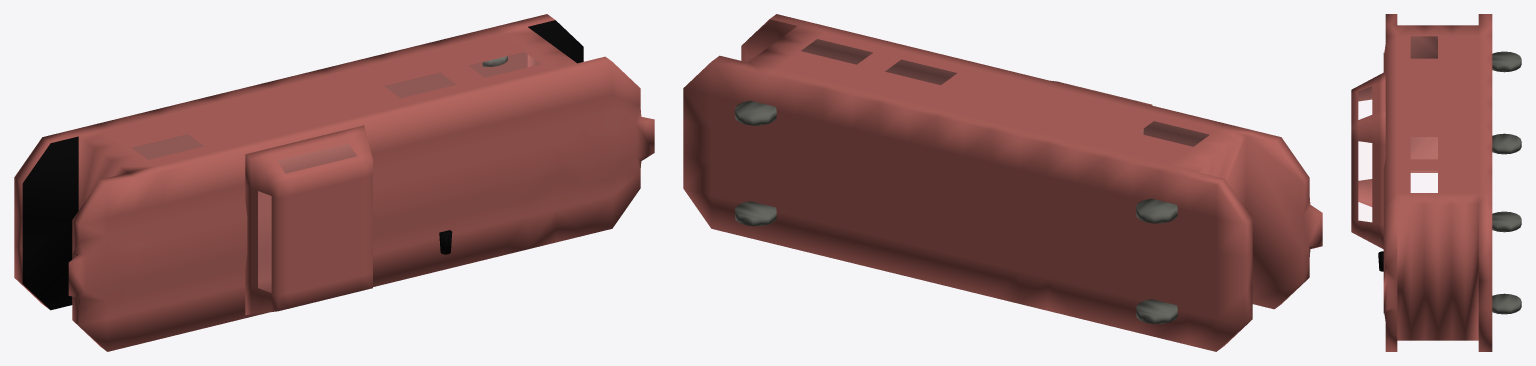
File: asset37.glb
3 renders of one model, left to right at view 1: azimuth 30°, elevation 25°; view 2: azimuth 150°, elevation 25°; view 3: azimuth 270°, elevation 25°, orthographic. The views are drawn at different scales.
Visible parts, largest first — view 1: Cube1, Cylinder2; view 2: Cube1, Cylinder4_copy6, Cylinder4_copy7, Cylinder4_copy5, Cylinder4; view 3: Cube1, Cylinder2, Cylinder4_copy7, Cylinder4_copy6, Cylinder4_copy5, Cylinder4.
Part boxes in pixels (<box>): Cube1: <box>14,14,654,351</box>; Cylinder2: <box>245,125,372,315</box>; Cube1: <box>683,14,1322,351</box>; Cylinder4_copy6: <box>1136,198,1177,223</box>; Cylinder4_copy7: <box>735,100,776,125</box>; Cylinder4_copy5: <box>735,201,776,226</box>; Cylinder4: <box>1136,299,1177,323</box>; Cube1: <box>1383,14,1492,351</box>; Cylinder2: <box>1351,71,1385,249</box>; Cylinder4_copy7: <box>1492,211,1521,232</box>; Cylinder4_copy6: <box>1492,51,1521,72</box>; Cylinder4_copy5: <box>1492,293,1521,314</box>; Cylinder4: <box>1492,133,1521,154</box>.
Size of the model in its own units: 1.03 by 0.28 by 0.316.
